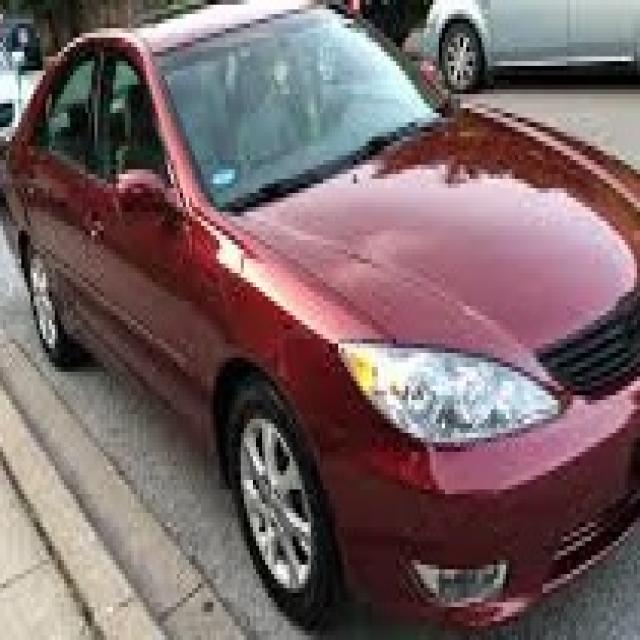maroon: (3, 20, 640, 632)
